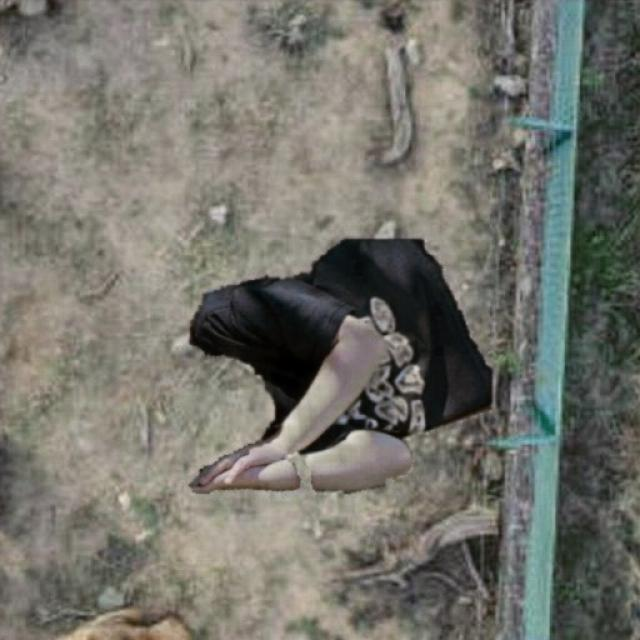Person in Rubble: (188, 238, 492, 492)
